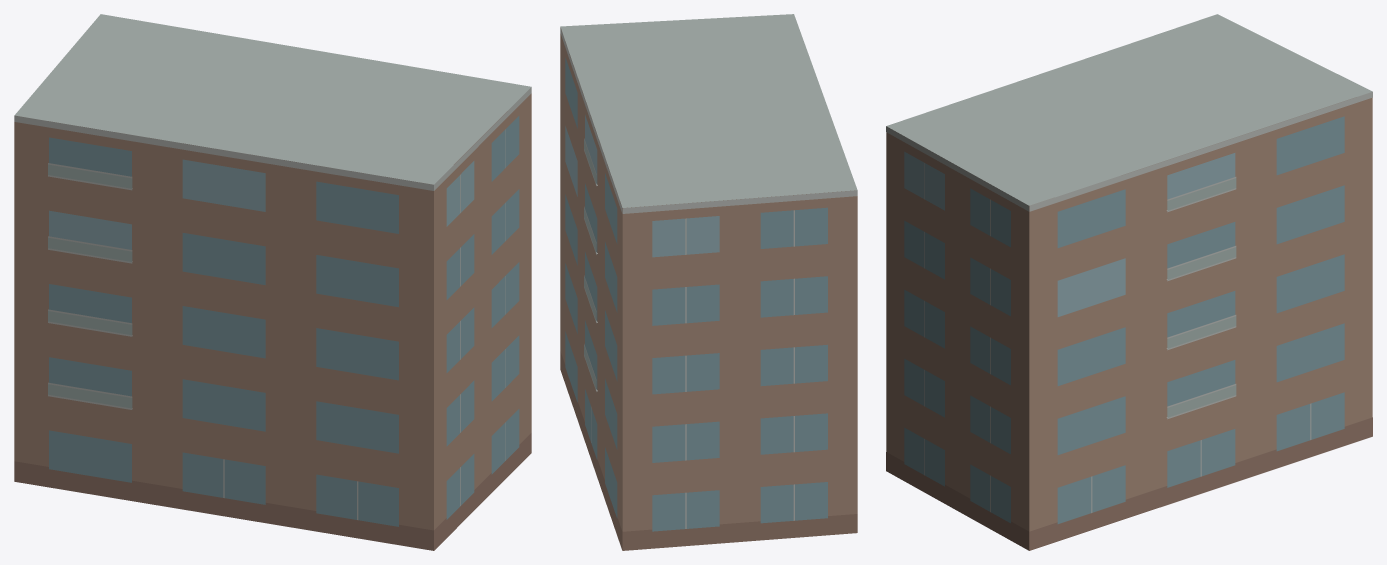
The model's file is survey-upis-32934456.glb.
The picture shows the model from 3 angles, left to right: view 1: azimuth 30°, elevation 25°; view 2: azimuth 150°, elevation 25°; view 3: azimuth 270°, elevation 25°; orthographic projection. The views are drawn at different scales.
Parts seen in each view (by area): view 1: survey-upis-32934456.tmp; view 2: survey-upis-32934456.tmp; view 3: survey-upis-32934456.tmp.
Part boxes in pixels (x1,y1,x2,y2): survey-upis-32934456.tmp: (14,14,531,550); survey-upis-32934456.tmp: (560,14,857,550); survey-upis-32934456.tmp: (886,14,1372,550).
Size of the model in its own units: 16.83 by 14.1 by 18.03.
